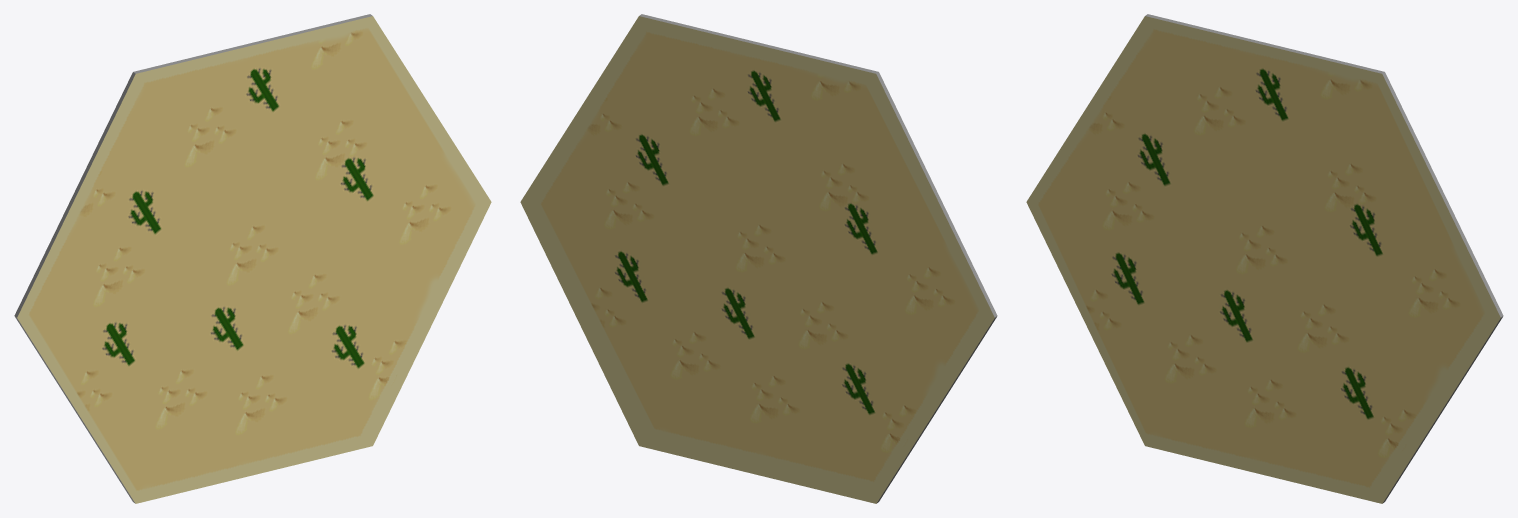
The model's file is Desert_Map.FBX.
The picture shows the model from 3 angles, left to right: view 1: azimuth 30°, elevation 25°; view 2: azimuth 150°, elevation 25°; view 3: azimuth 330°, elevation 25°; orthographic projection.
Visible parts, largest first — view 1: Gengon001; view 2: Gengon001; view 3: Gengon001.
Part boxes in pixels (x1=…): Gengon001: x1=14, y1=14, x2=491, y2=503; Gengon001: x1=520, y1=14, x2=997, y2=503; Gengon001: x1=1026, y1=14, x2=1503, y2=503.
Size of the model in its own units: 20 by 0.2 by 17.32.
Materials: 3 (2 with a texture image).
